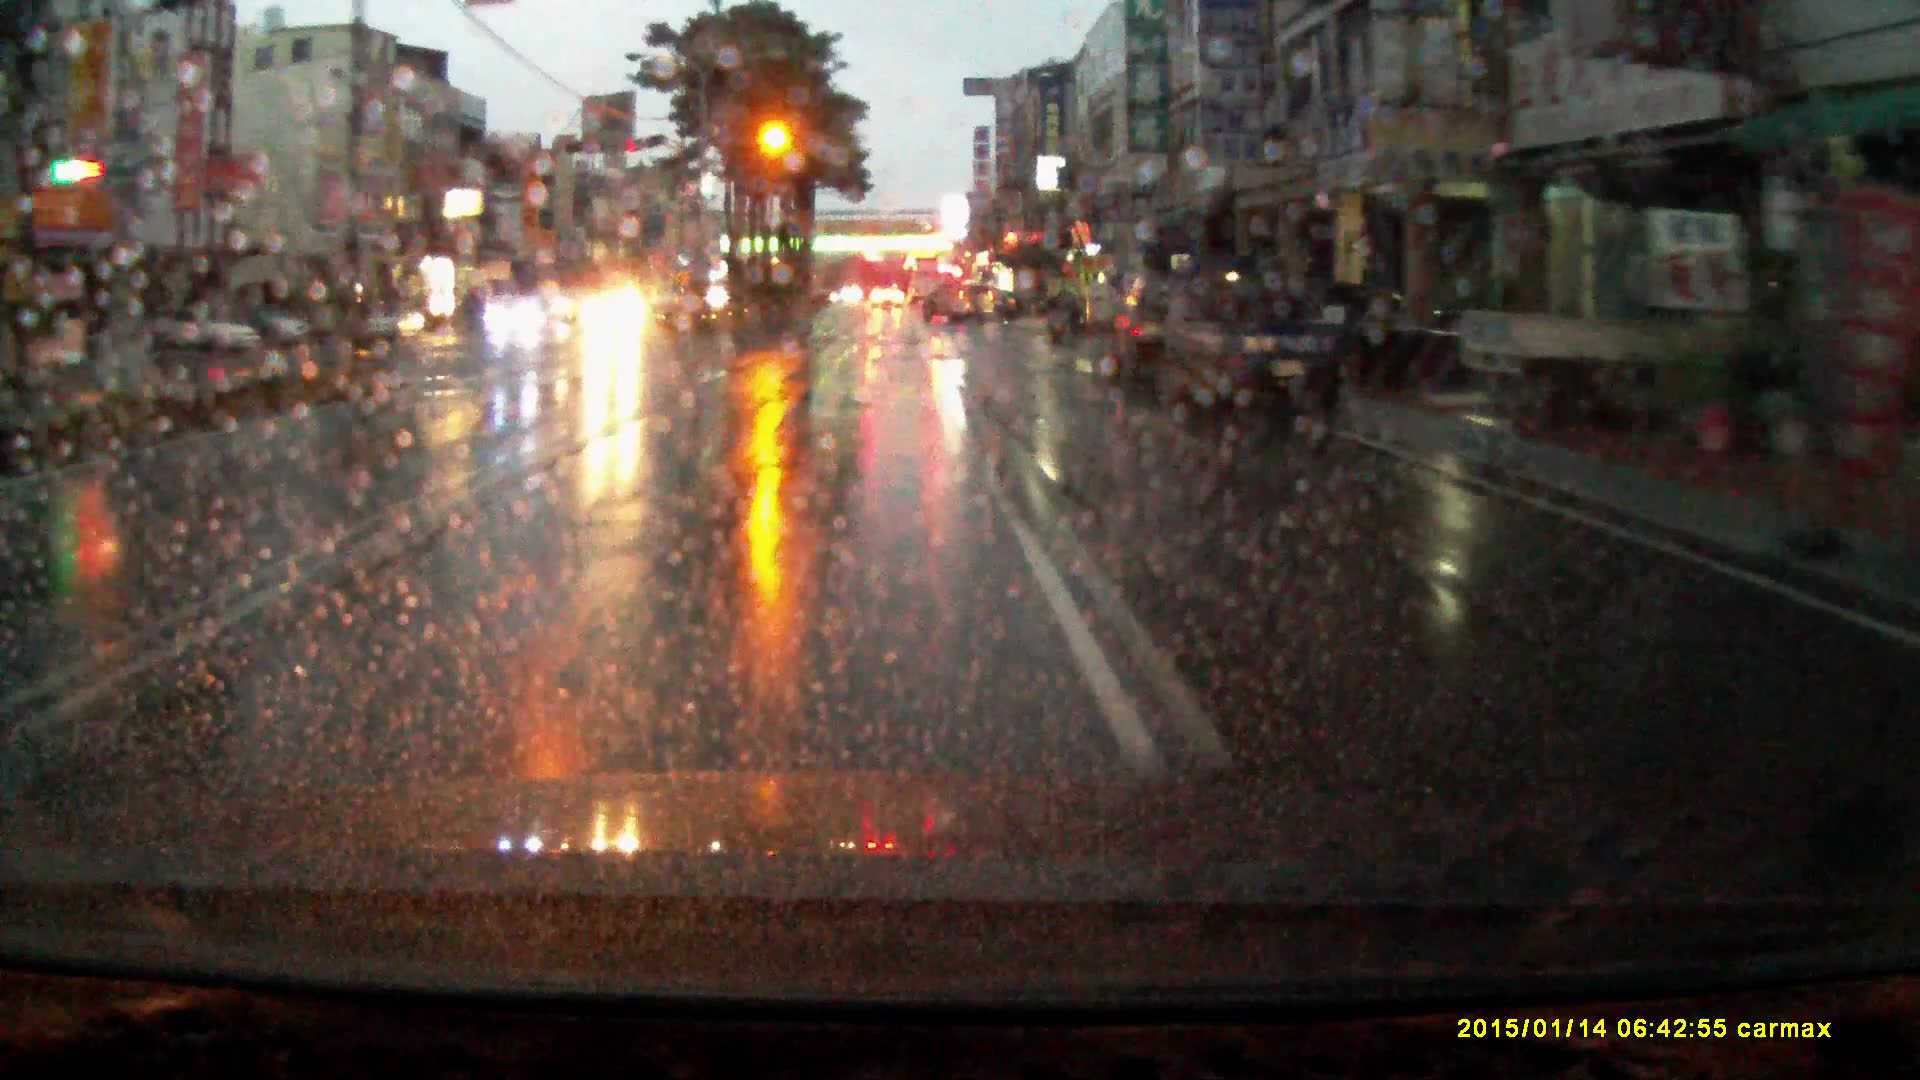vehicle: (1457, 287, 1774, 433), (1164, 252, 1344, 411), (1116, 270, 1167, 394), (135, 310, 258, 360), (579, 287, 657, 345), (356, 301, 423, 353), (237, 309, 313, 353), (924, 284, 998, 328), (488, 295, 551, 342), (910, 258, 945, 303), (870, 287, 905, 313), (996, 293, 1021, 323)
